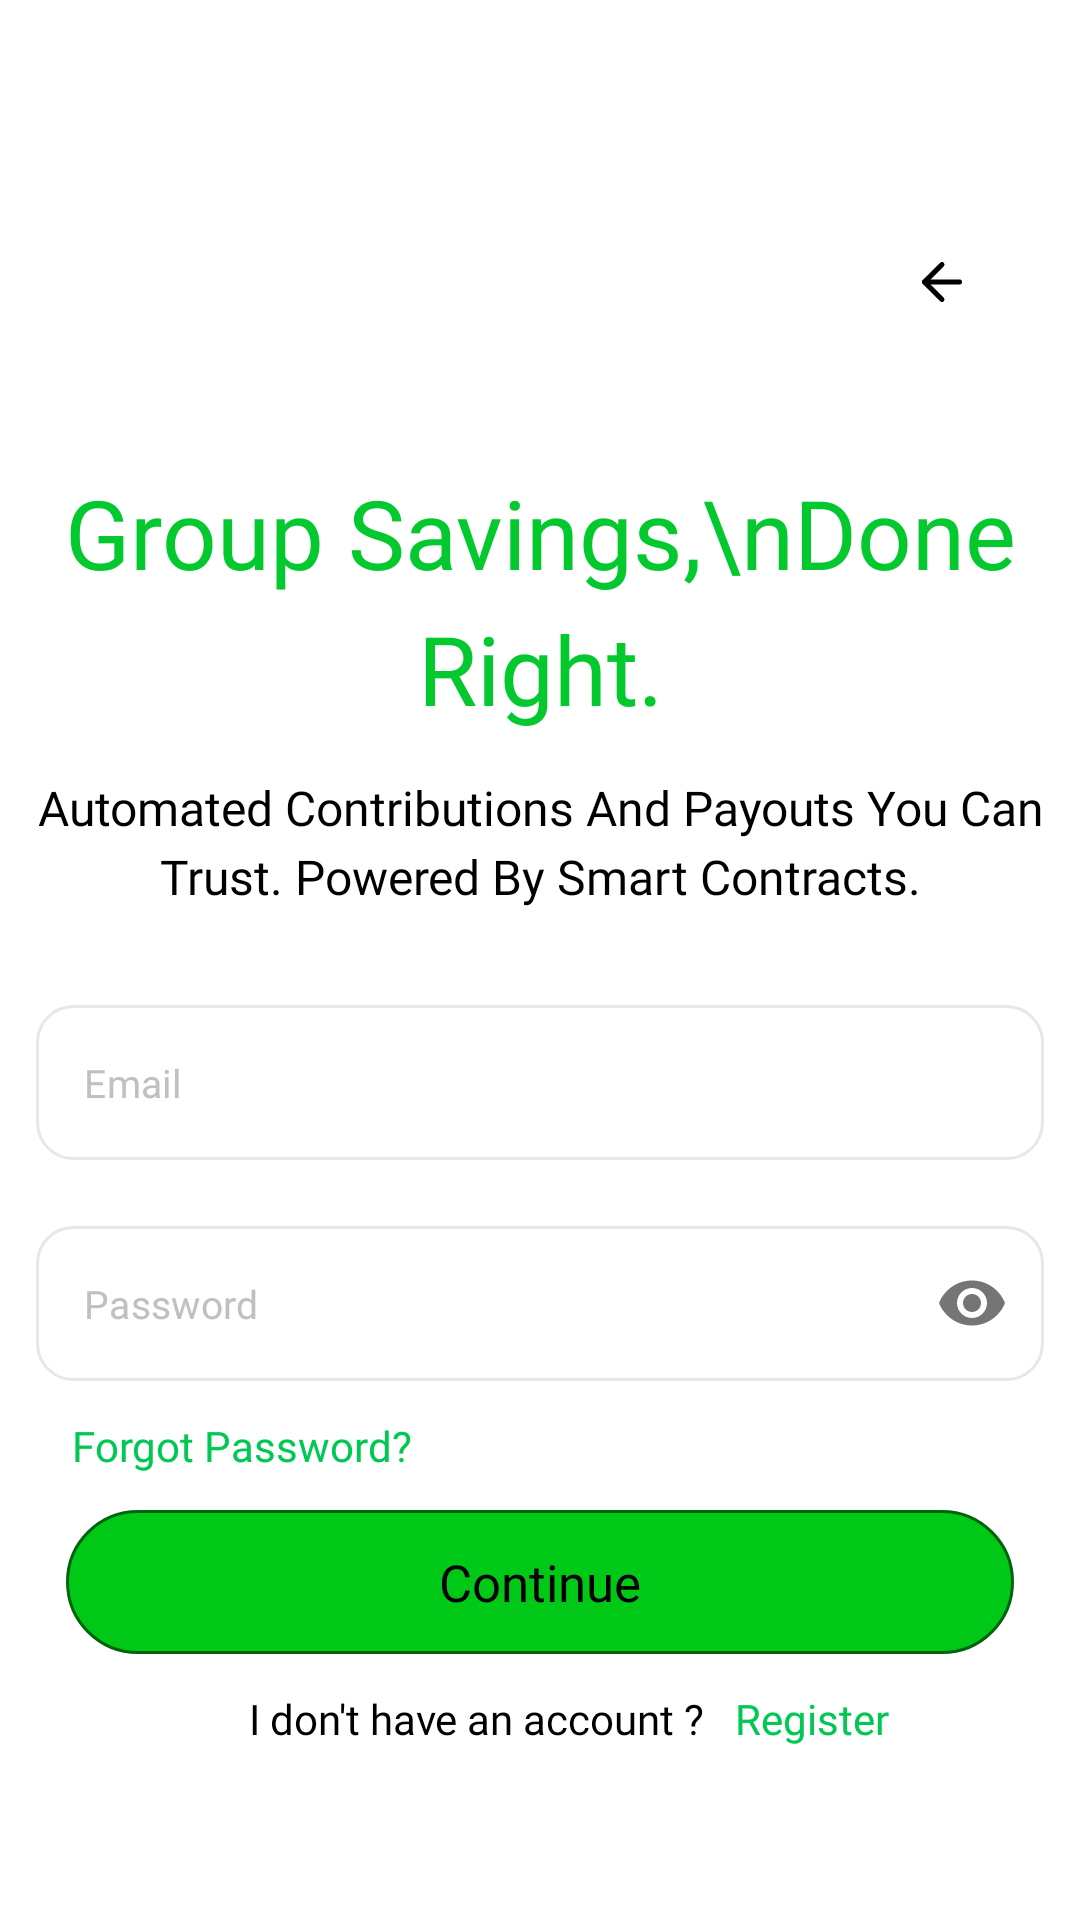

Where icons sit on this 1080*1920 app screen, as (x1, y1, x2, y2):
arrow back: (922, 262, 962, 302)
